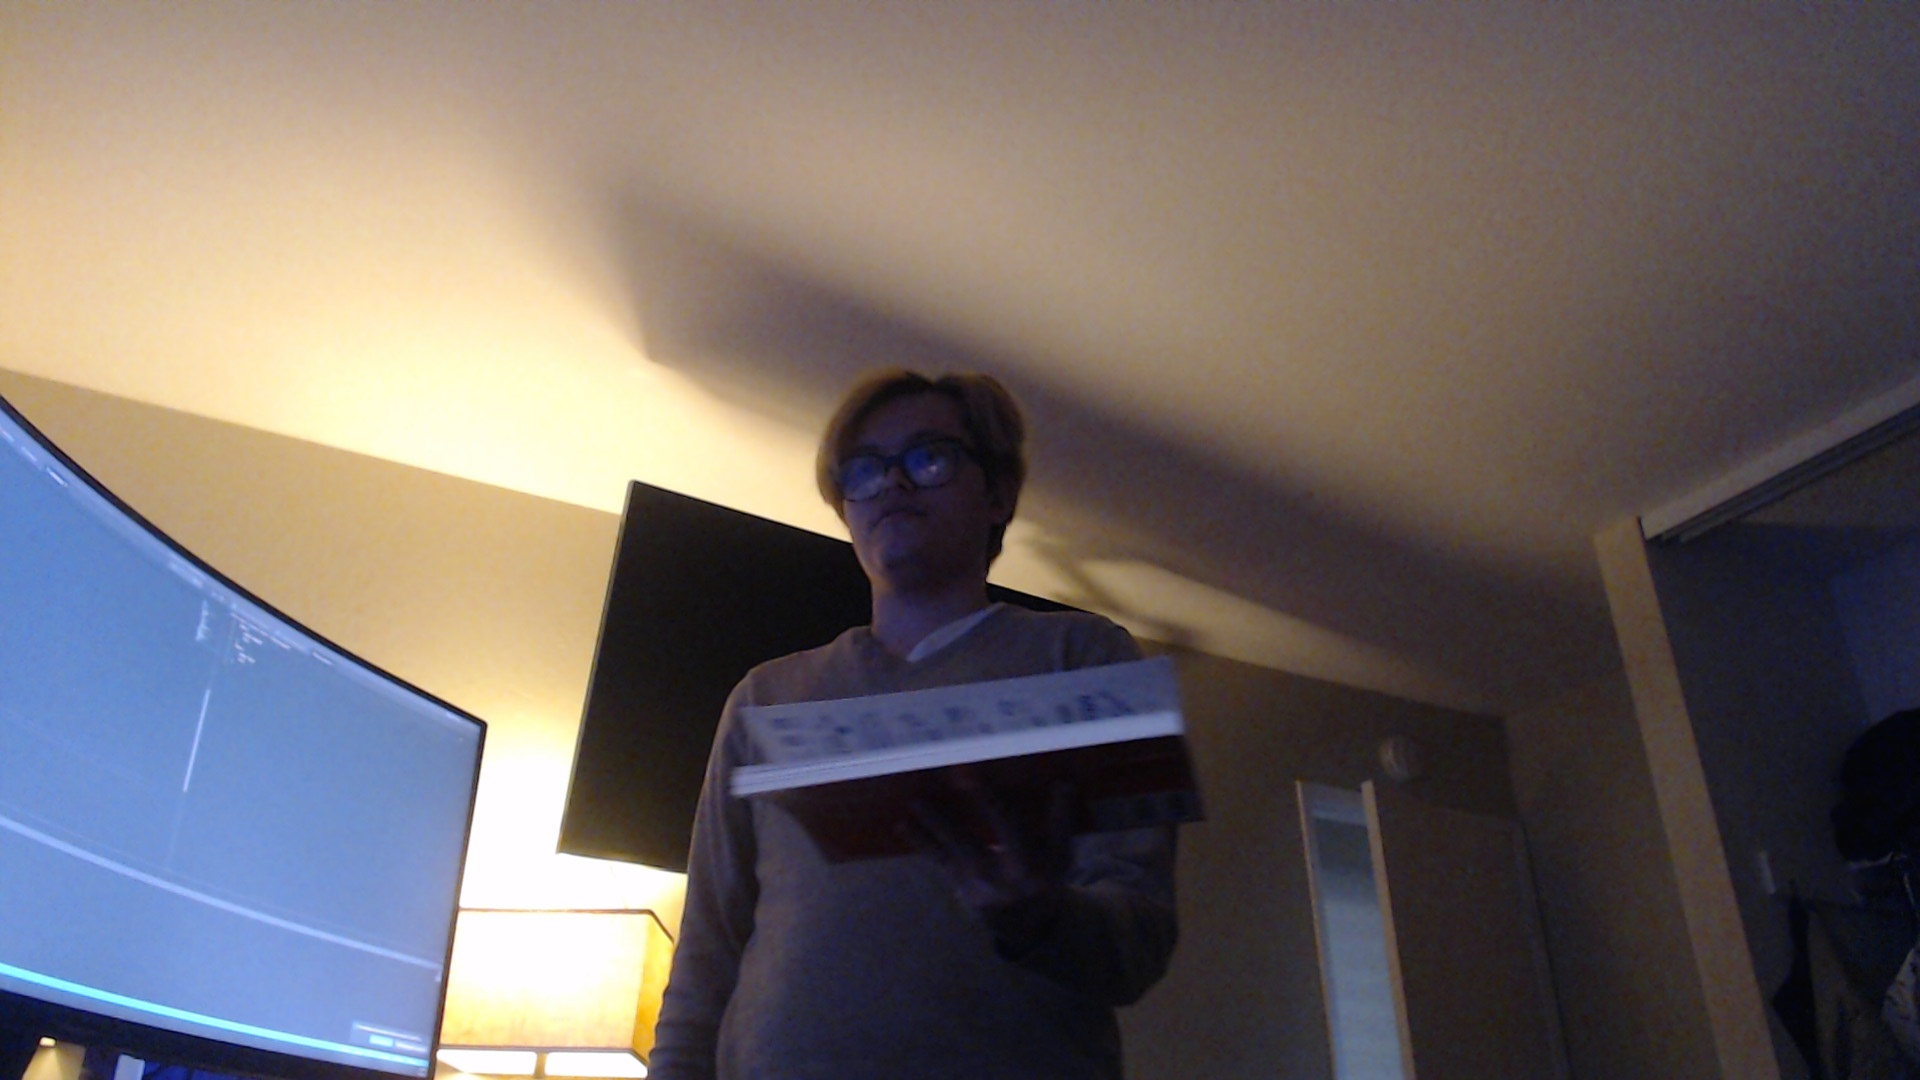book: (732, 651, 1205, 864)
